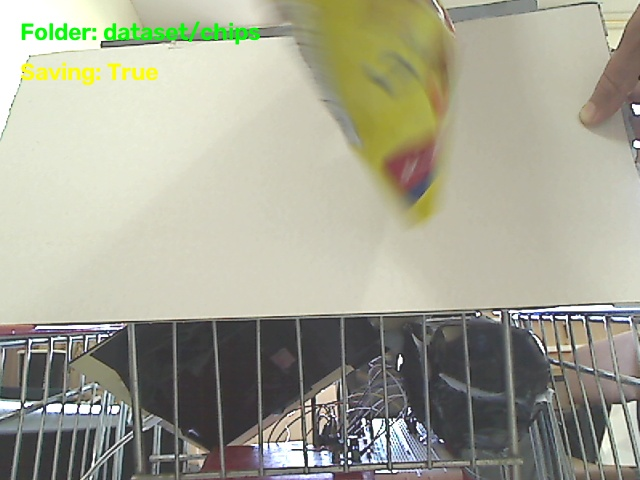chips: (274, 0, 454, 221)
